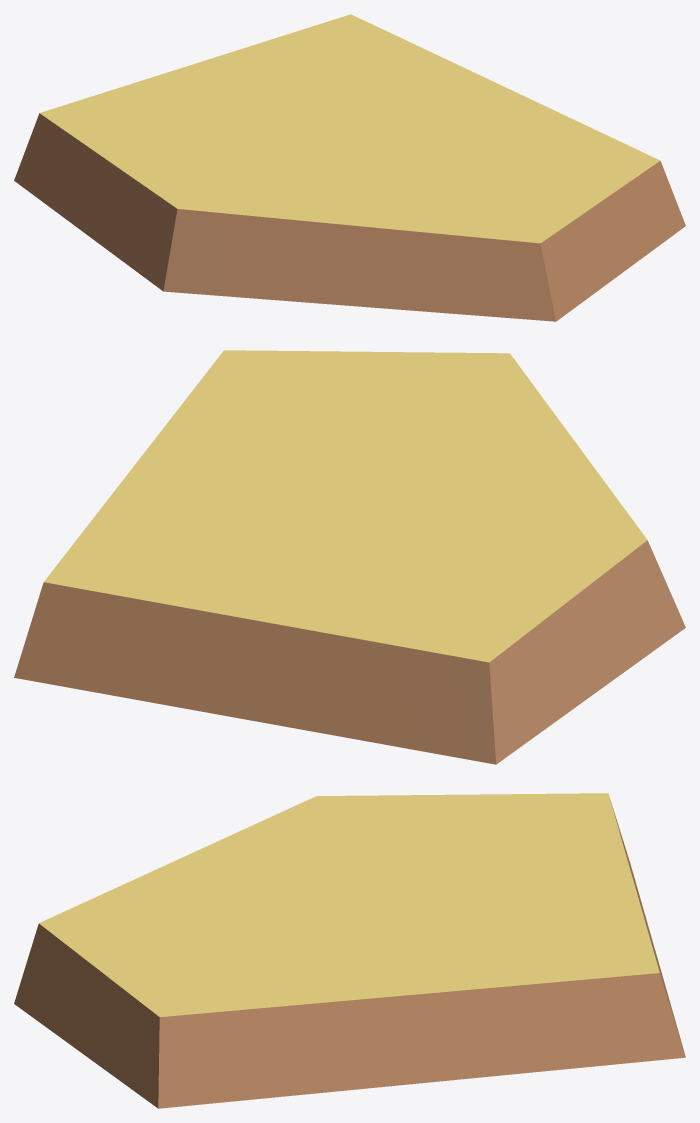
Rendered from Dao_003.fbx.
3 views of the same model, one above another, from view 1: azimuth 30°, elevation 25°; view 2: azimuth 150°, elevation 25°; view 3: azimuth 270°, elevation 25° (orthographic). The views are drawn at different scales.
Parts seen in each view (by area): view 1: Dao_003; view 2: Dao_003; view 3: Dao_003.
Part boxes in pixels (x1,y1,x2,y2): Dao_003: (14,14,685,321); Dao_003: (14,350,685,764); Dao_003: (14,793,685,1108).
Bounding box in the file's own units: 184 × 27.24 × 212.
